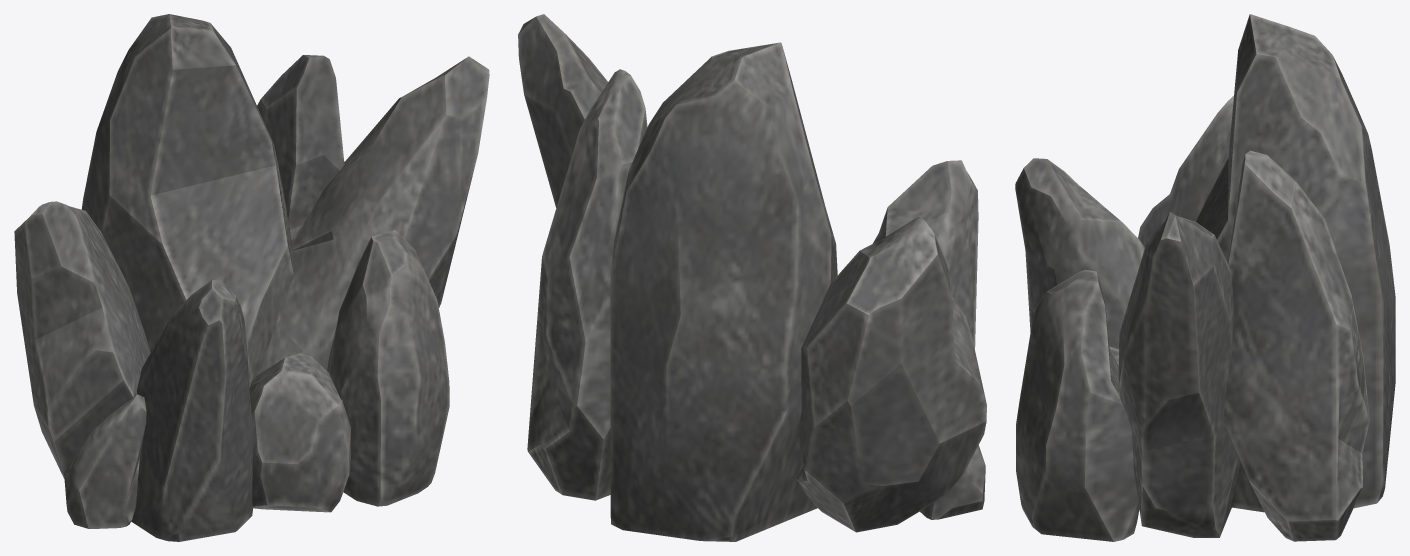
File: RockGroup07_Dream.glb
The picture shows the model from 3 angles, left to right: view 1: azimuth 30°, elevation 25°; view 2: azimuth 150°, elevation 25°; view 3: azimuth 270°, elevation 25°; orthographic projection. The views are drawn at different scales.
Parts seen in each view (by area): view 1: rockgroup07_dream; view 2: rockgroup07_dream; view 3: rockgroup07_dream.
Boxes of the visible parts, <box> form: rockgroup07_dream: <box>14,14,489,541</box>; rockgroup07_dream: <box>518,14,986,541</box>; rockgroup07_dream: <box>1015,14,1395,541</box>.
Bounding box in the file's own units: 0.7331 × 0.6998 × 0.5343.
1 material, 1 textured.
